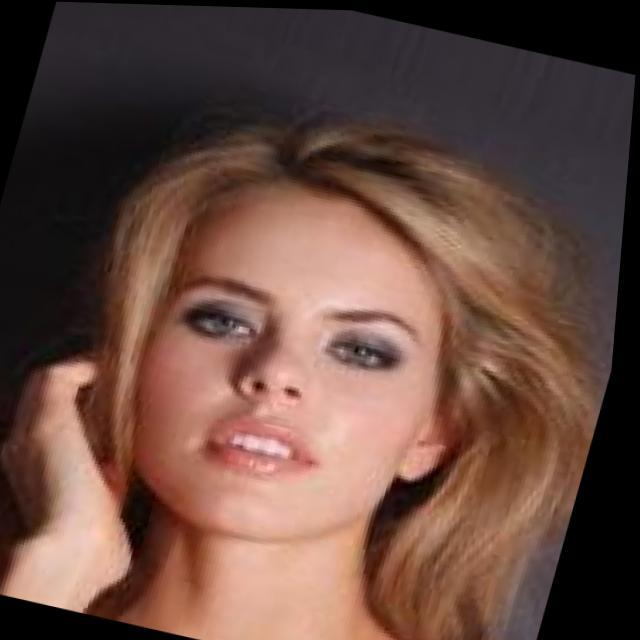Nonhelmet: (76, 114, 596, 637)
